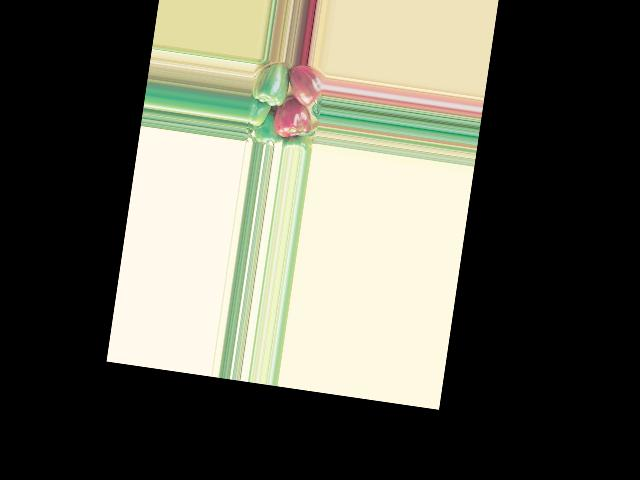bell_pepper: (288, 63, 325, 107)
